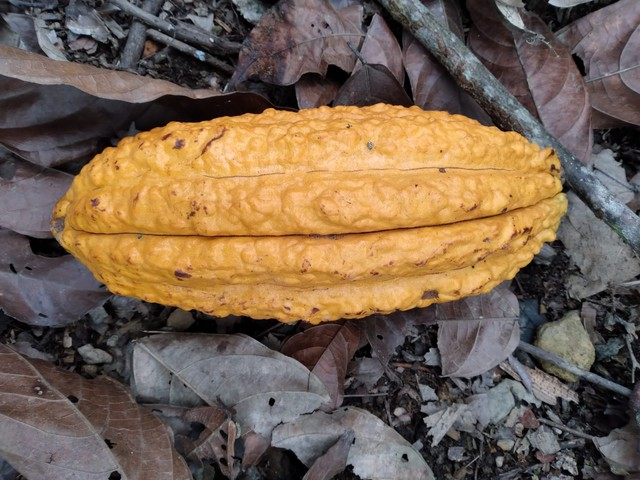Health: (46, 101, 573, 329)
